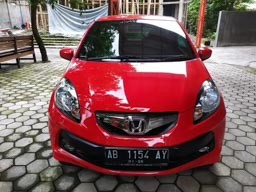plat: (106, 147, 168, 159)
